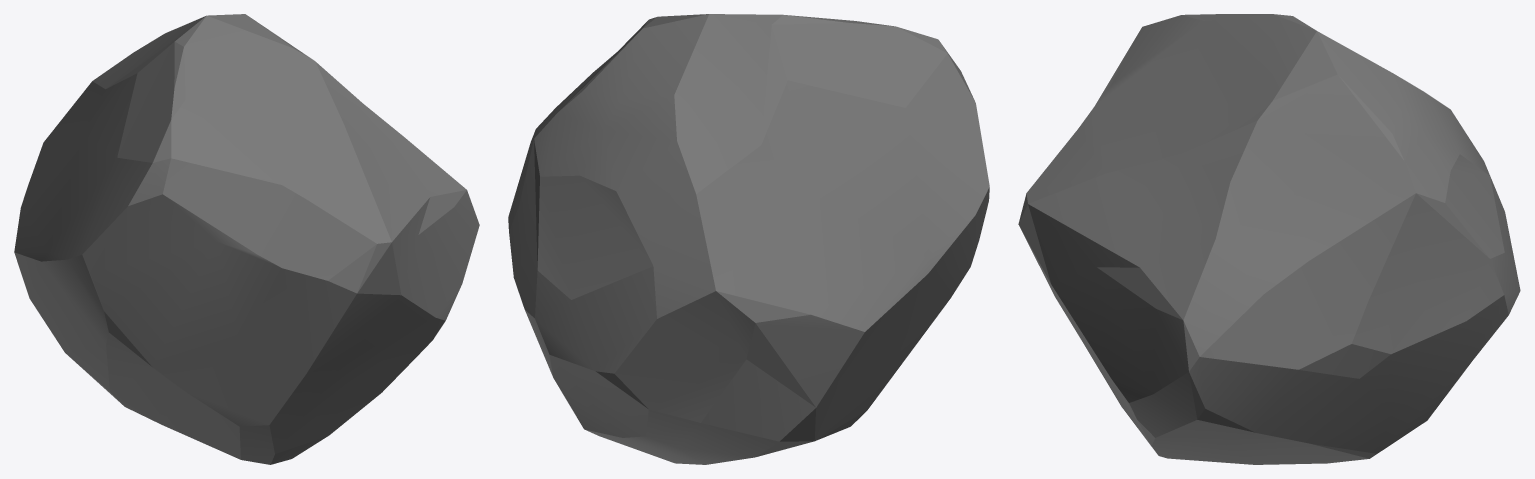
Rendered from Rock_1.FBX.
The picture shows the model from 3 angles, left to right: view 1: azimuth 30°, elevation 25°; view 2: azimuth 150°, elevation 25°; view 3: azimuth 270°, elevation 25°; orthographic projection. The views are drawn at different scales.
Visible parts, largest first — view 1: Rock_1; view 2: Rock_1; view 3: Rock_1.
Boxes of the visible parts, bbox=[...] form: Rock_1: bbox=[14, 14, 479, 464]; Rock_1: bbox=[508, 14, 989, 464]; Rock_1: bbox=[1018, 14, 1520, 464].
Bounding box in the file's own units: 171 × 163 × 176.
